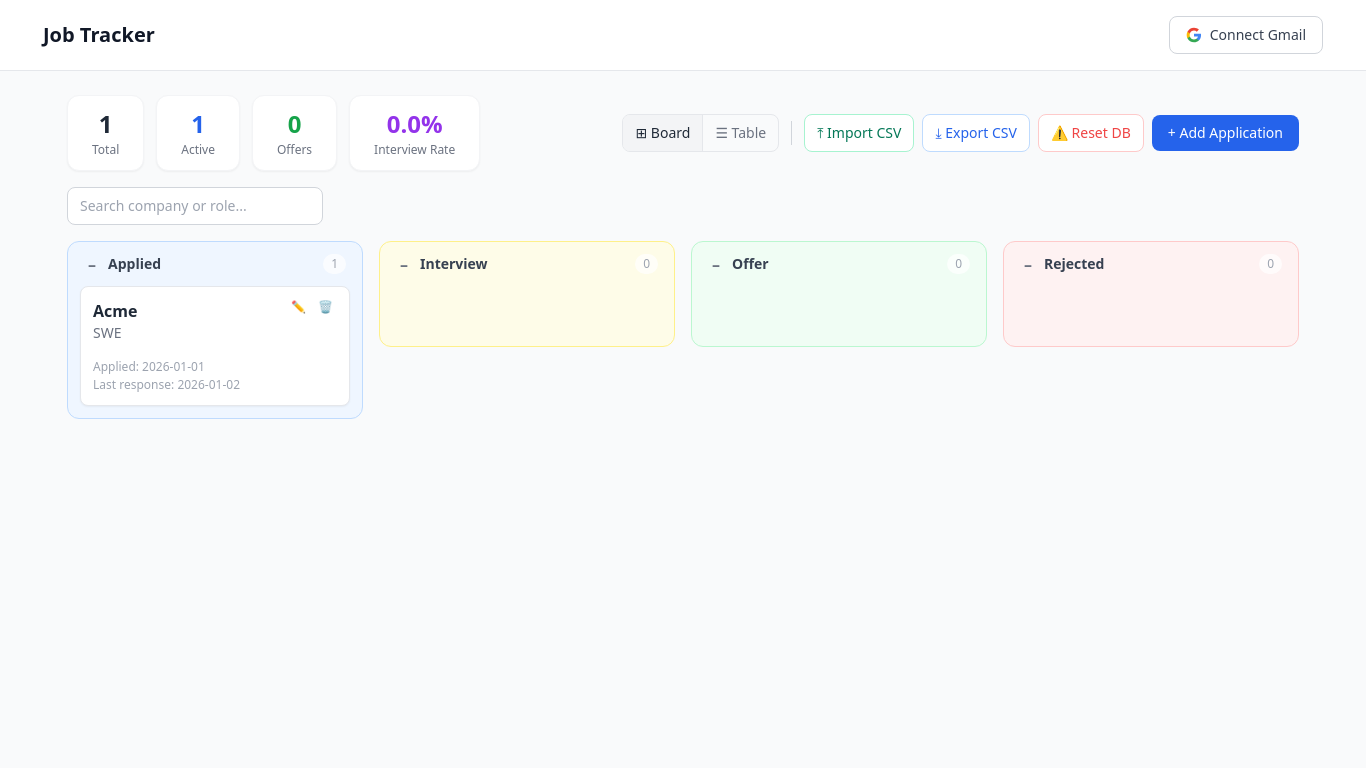
it: App — delete confirmation dialog › should surface an error in the dialog when the delete fails, keeping it open
Step 1. Click the button with test id "card-delete" → (326, 307), box [314,299,337,315]
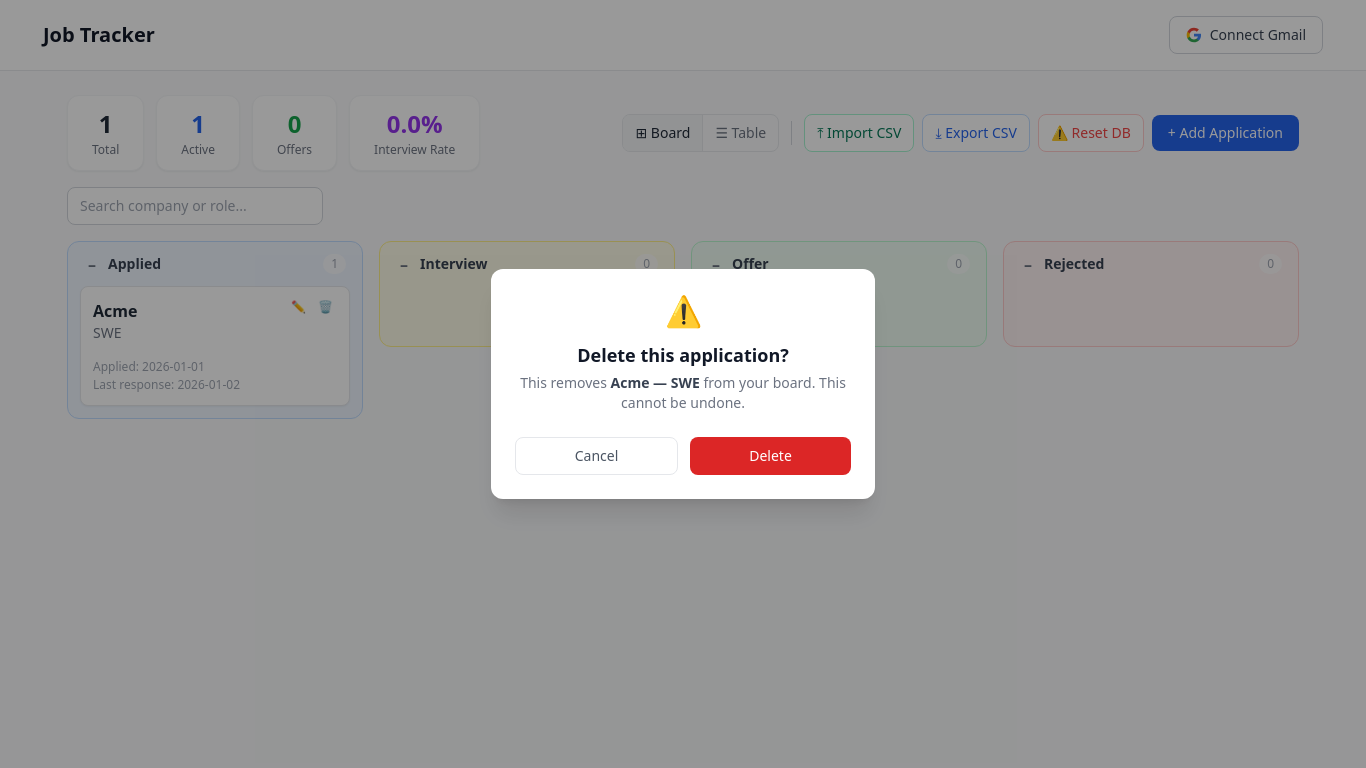
Now the element with test id "delete-confirm-modal" is shown, box [491,269,875,499]
Step 2. Click the button with test id "delete-confirm" → (770, 456), box [690,437,851,475]
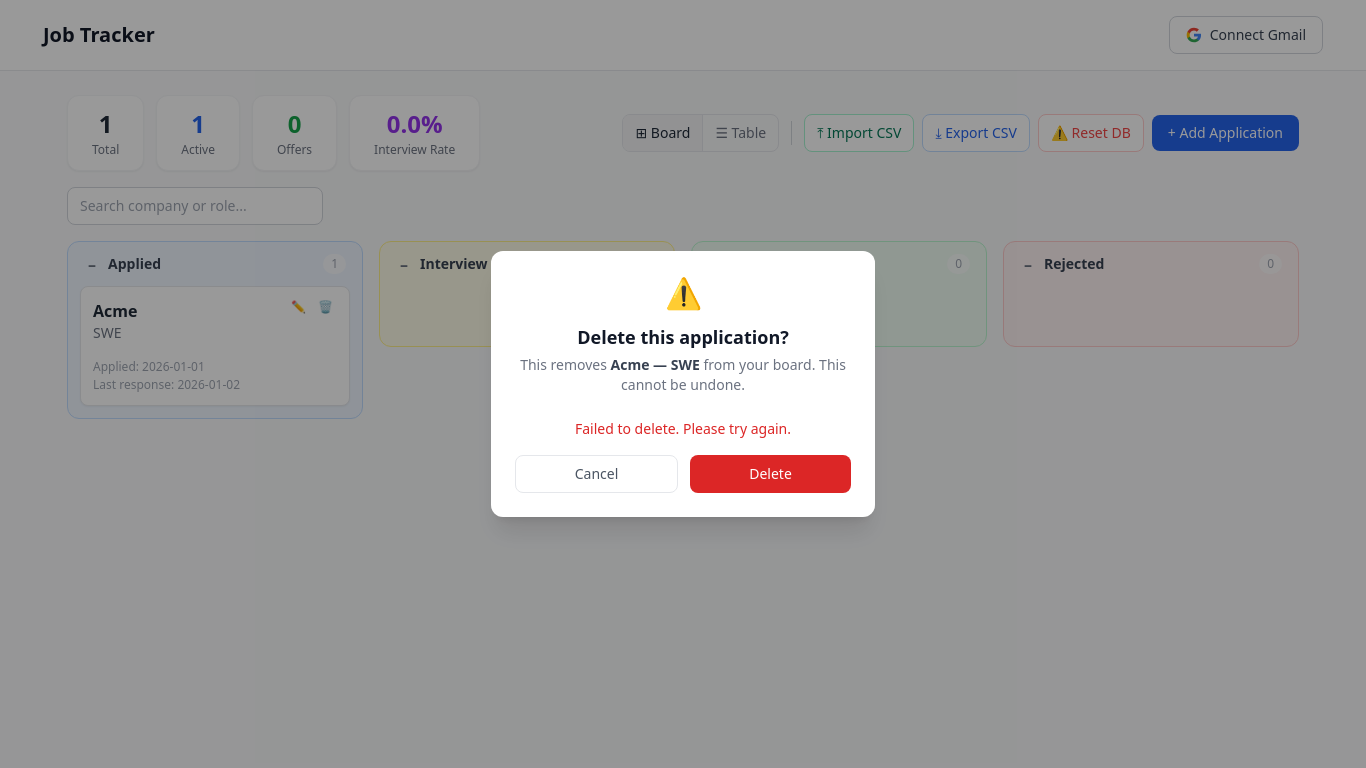
Now the element with test id "delete-confirm-modal" is shown, box [491,251,875,517]
Now the text with test id "delete-error" shows "Failed to delete", box [575,419,791,438]
